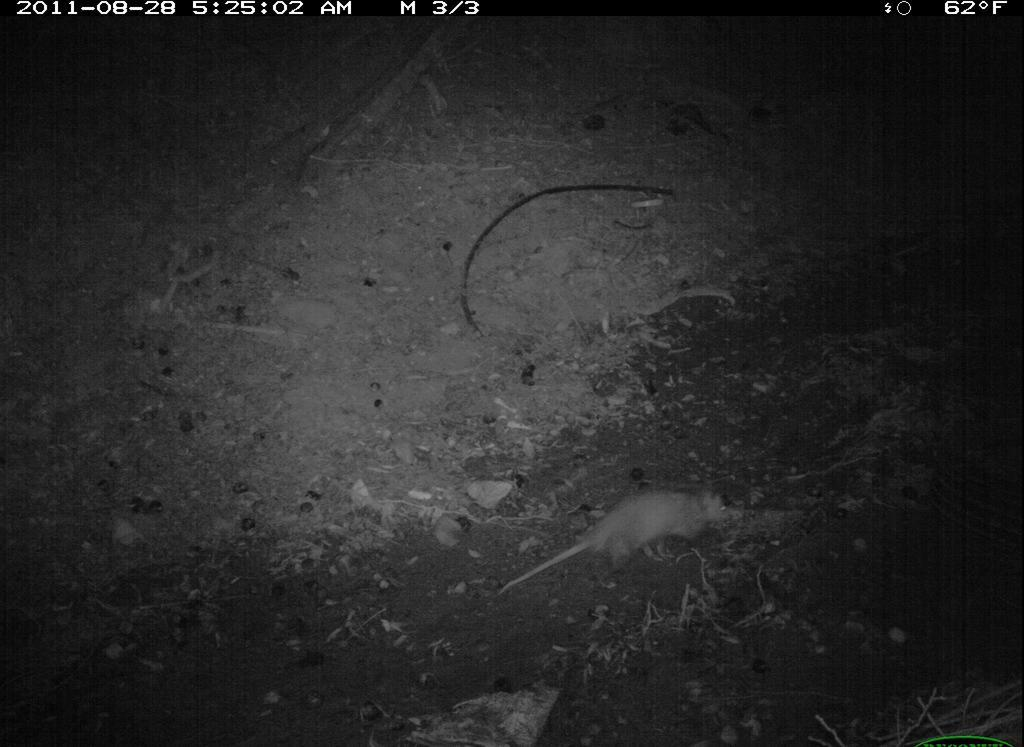opossum: (487, 476, 752, 604)
